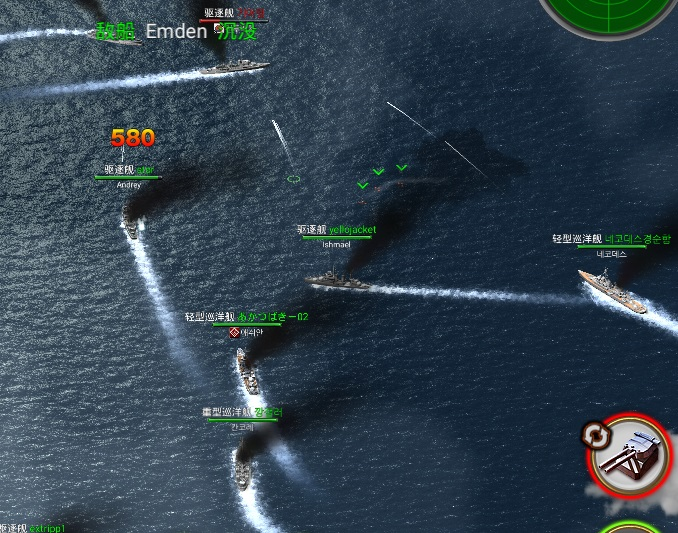ship: (577, 266, 653, 317), (202, 55, 274, 79), (234, 346, 265, 397), (304, 271, 373, 293), (116, 199, 146, 244), (234, 437, 255, 492)
